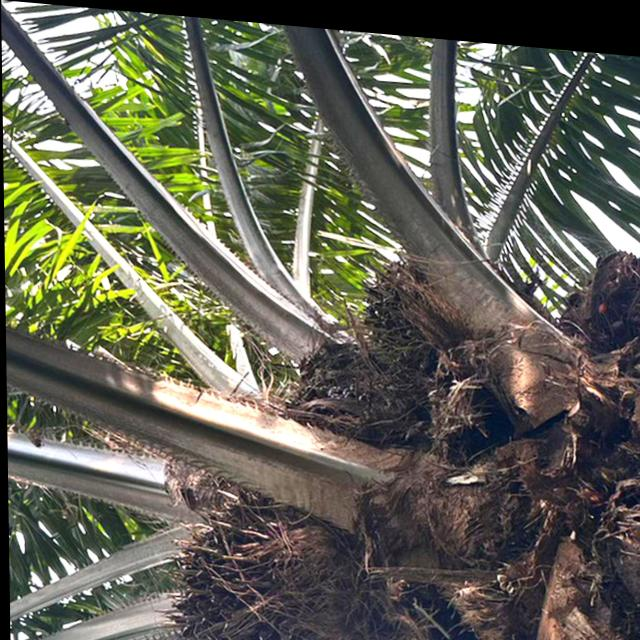unripe: (354, 238, 493, 418)
